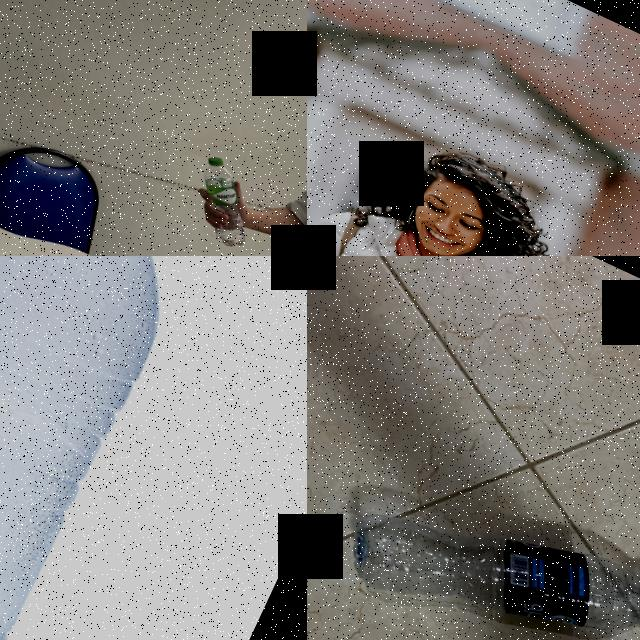bottle: (0, 256, 228, 640), (332, 443, 640, 640), (177, 153, 275, 254)
